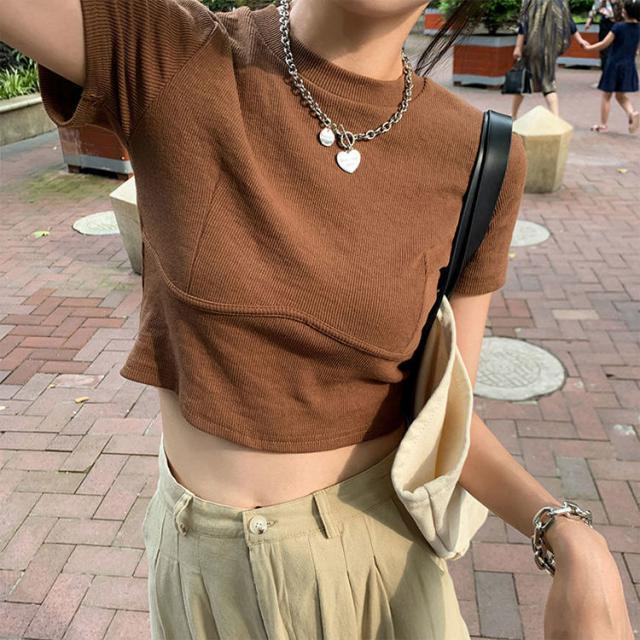shirt: (80, 1, 527, 456)
